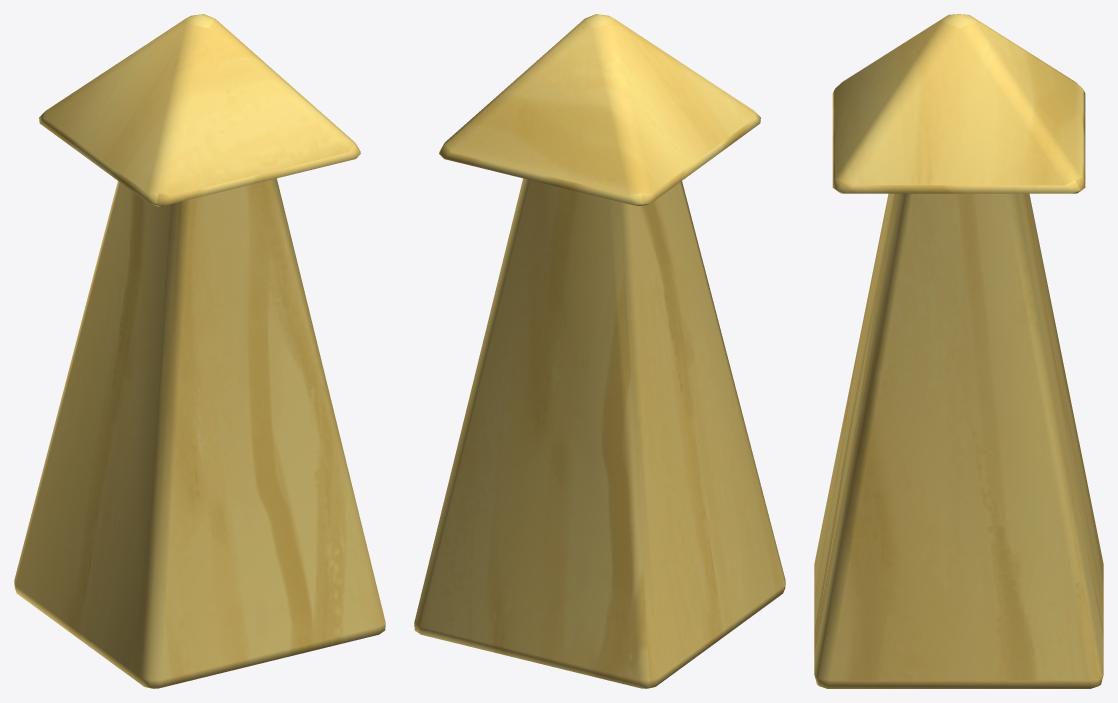
The model's file is Soldier_2.fbx.
3 renders of one model, left to right at view 1: azimuth 30°, elevation 25°; view 2: azimuth 150°, elevation 25°; view 3: azimuth 270°, elevation 25°, orthographic. The views are drawn at different scales.
Parts seen in each view (by area): view 1: Soldier_2; view 2: Soldier_2; view 3: Soldier_2.
Boxes of the visible parts, bbox=[...] form: Soldier_2: bbox=[14, 14, 385, 688]; Soldier_2: bbox=[414, 14, 785, 688]; Soldier_2: bbox=[814, 14, 1103, 688].
Bounding box in the file's own units: 98.32 × 232 × 98.32.
